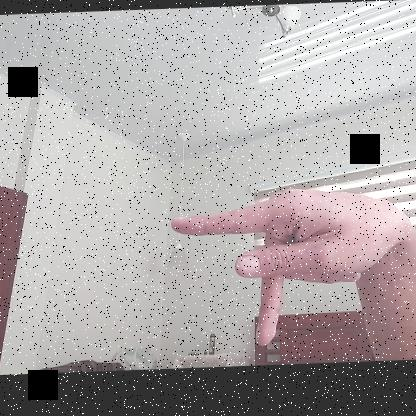P: (168, 186, 409, 351)
